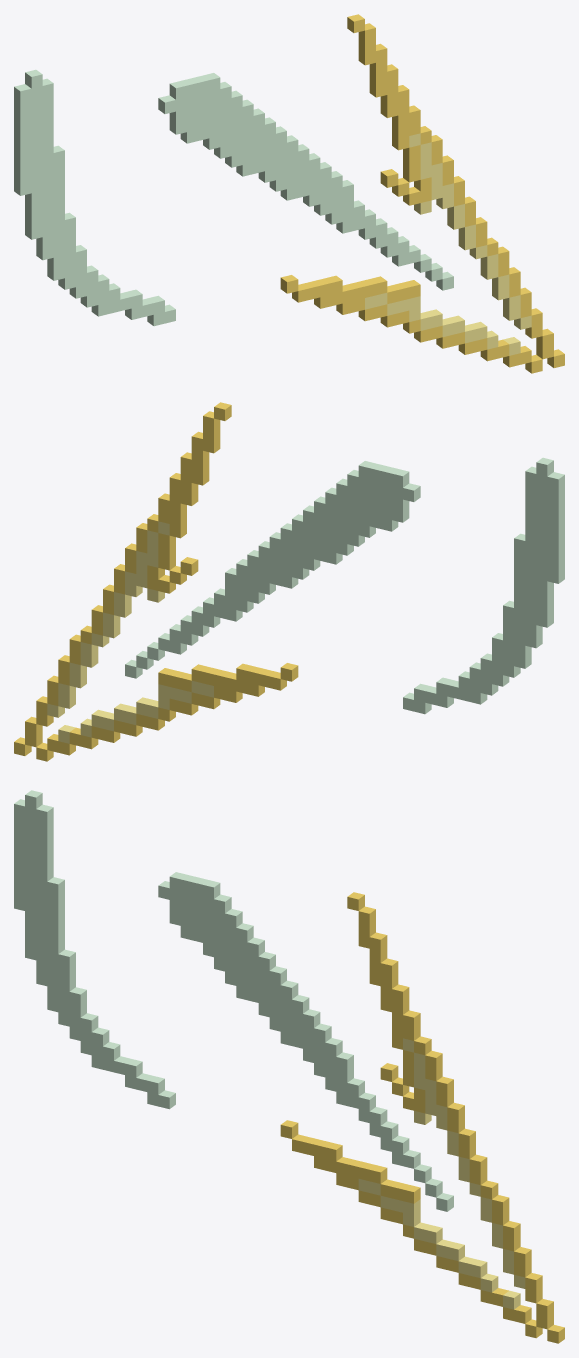
Rendered from Fight_742_2_07_fx.obj.
3 views of the same model, one above another, from view 1: azimuth 30°, elevation 25°; view 2: azimuth 150°, elevation 25°; view 3: azimuth 330°, elevation 25° (orthographic).
Bounding box in the file's own units: 4.9 × 3.6 × 0.1.
1 material, 1 textured.
